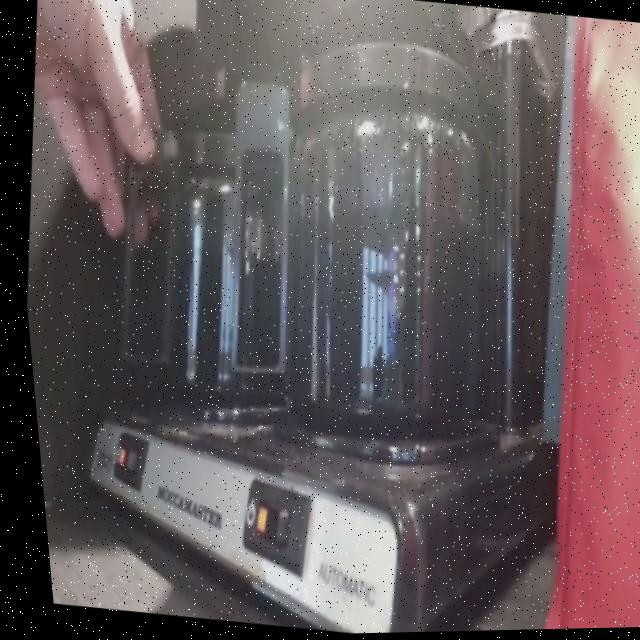coffee: (251, 18, 523, 447), (112, 63, 332, 412)
